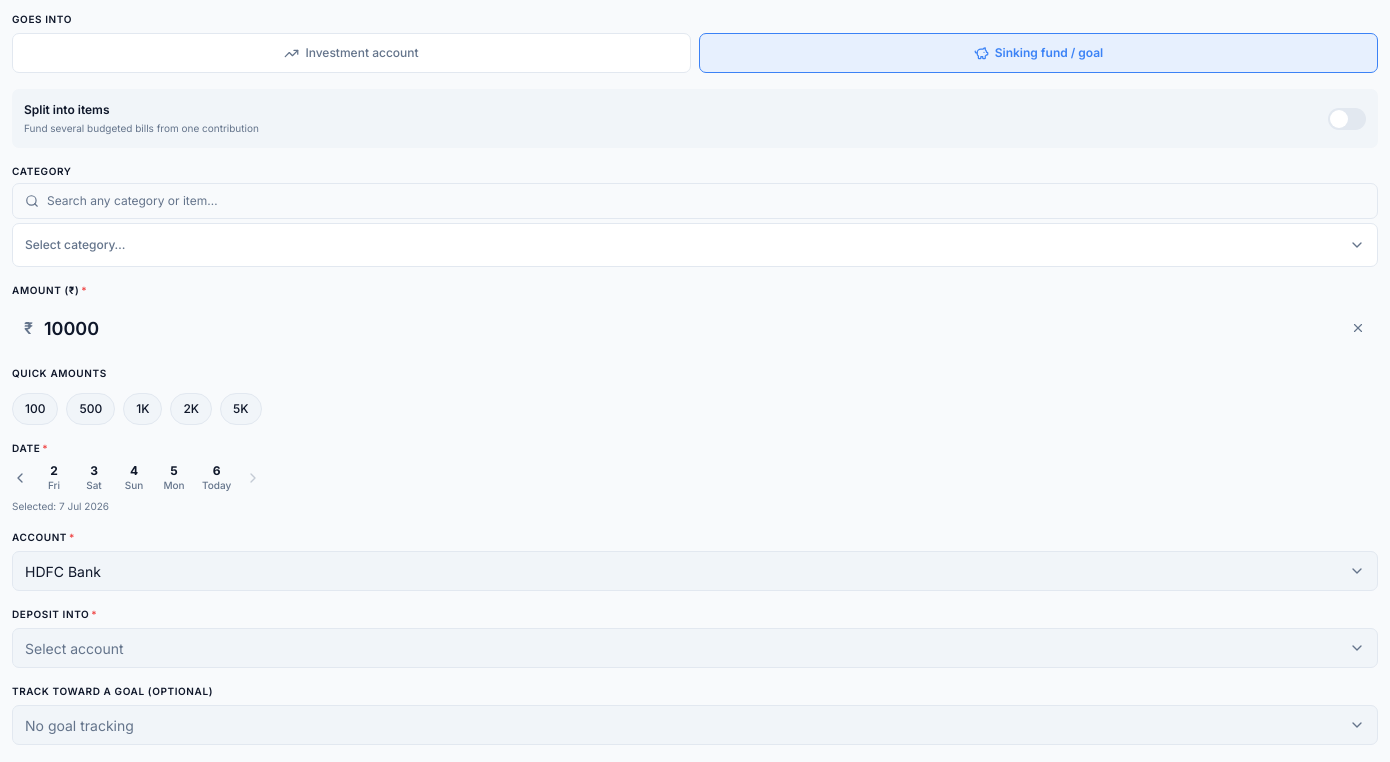
Scenario: InvestmentForm — Split into items (Sinking only) › swaps the single Category picker for MultiItemExpenseForm once toggled on
Click the checkbox named "split into items" at (1347, 118), box [1328, 108, 1366, 130]
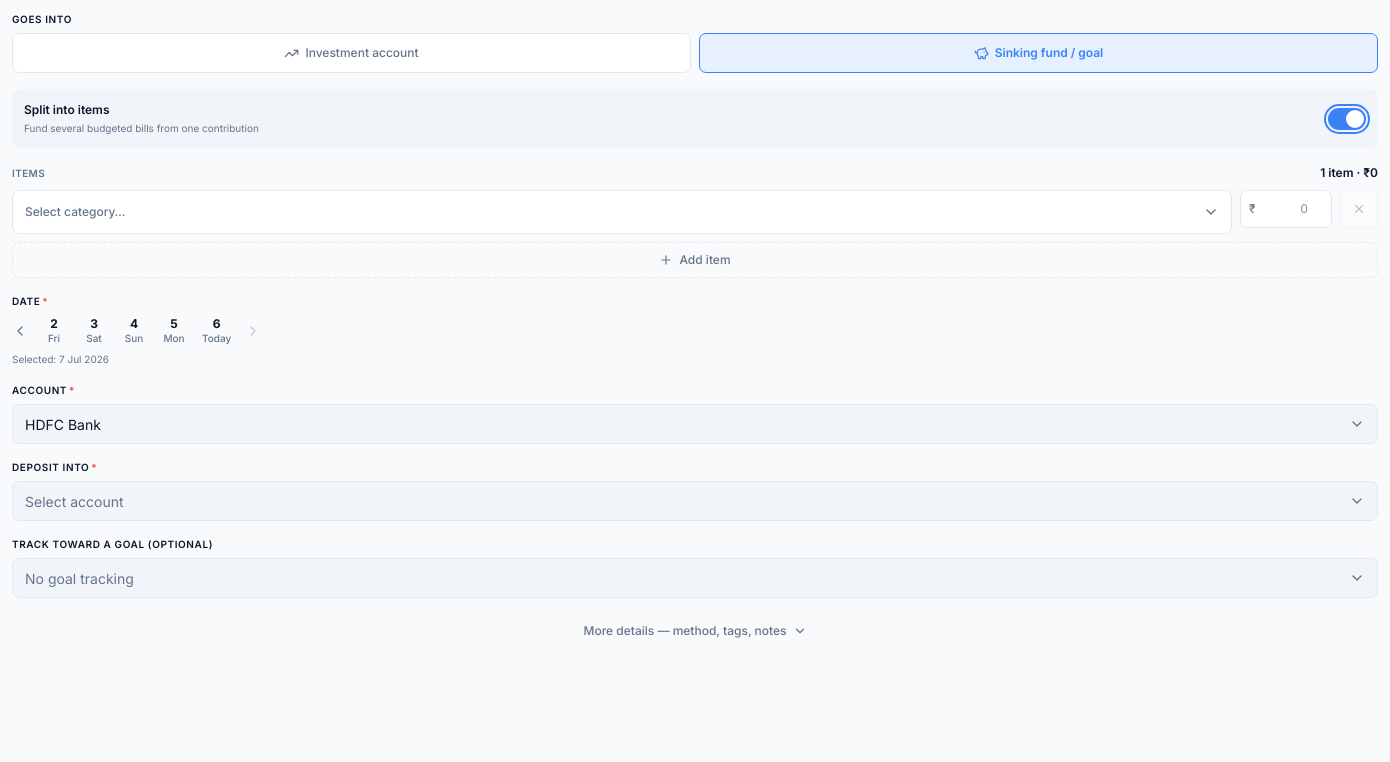
Now the button "Add item" is shown, box [12, 242, 1378, 278]
